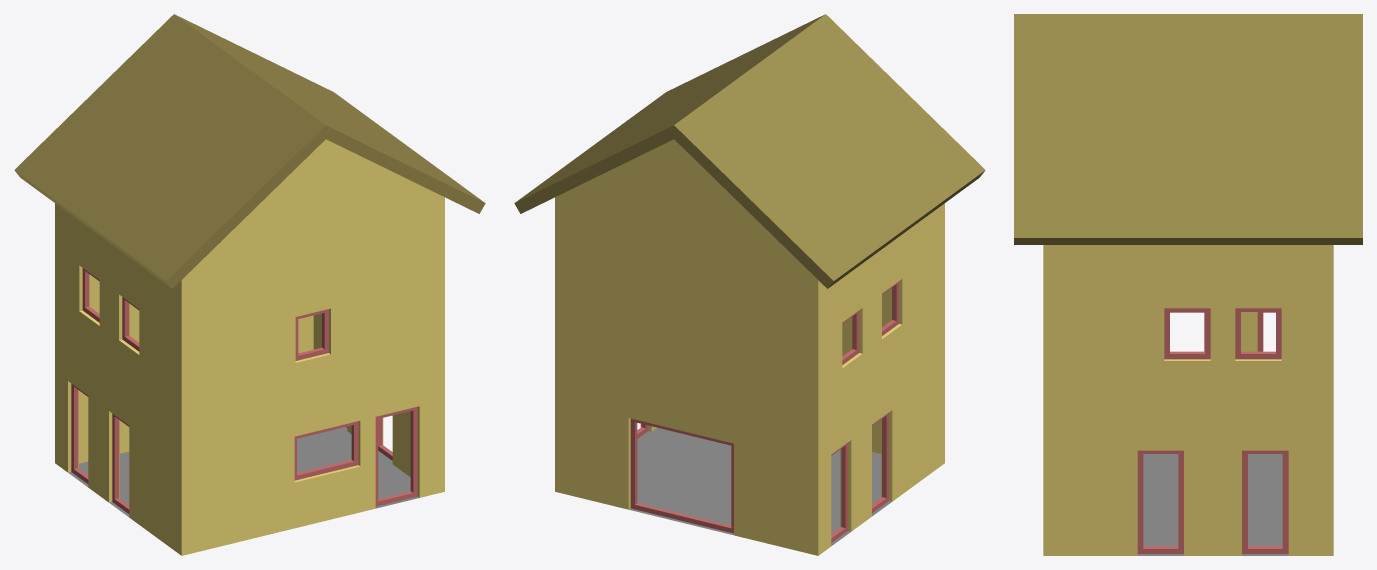
Rendered from result.glb.
3 views of the same model, side by side, from view 1: azimuth 30°, elevation 25°; view 2: azimuth 150°, elevation 25°; view 3: azimuth 270°, elevation 25° (orthographic). The views are drawn at different scales.
Visible parts, largest first — view 1: 58d5fe9b-66ff-4436-a9d9-81e09877fd12__undefined, 4d526b05-ba2b-46a8-8b9f-0b79afe91c6f__undefined (×2), 17e46a5e-29c2-4b0e-9123-e908c16def00__Plane_12, cd5a87b2-f80f-459e-8ec8-01d4aa87a5e8__Box, d47d1ab9-30a7-41aa-8699-48bdabd1dd70__Box_3, e3573923-9e46-4840-a38e-f33007ee65e7__Box_12, e75e17ad-46d1-4dae-bb52-7bf5ee2eff7f__Box_15, c084ab58-80e6-4a71-8fee-d90d848896a4__Box_6; view 2: 58d5fe9b-66ff-4436-a9d9-81e09877fd12__undefined, 4d526b05-ba2b-46a8-8b9f-0b79afe91c6f__undefined (×2), 17e46a5e-29c2-4b0e-9123-e908c16def00__Plane_12, ec49a122-95bb-4794-94d0-ca2c1f05acf7__Box_9, e75e17ad-46d1-4dae-bb52-7bf5ee2eff7f__Box_15, e3573923-9e46-4840-a38e-f33007ee65e7__Box_12; view 3: 4d526b05-ba2b-46a8-8b9f-0b79afe91c6f__undefined, 58d5fe9b-66ff-4436-a9d9-81e09877fd12__undefined, 17e46a5e-29c2-4b0e-9123-e908c16def00__Plane_12, 5ead5358-c3f2-485a-b7f8-f6f0ddb477be__Box_27, 3d83b8fb-e180-44c0-90ca-d98a20f719cc__Box_24, 51227ef4-a1f1-48ae-91c5-5794eac4196b__Box_30, d40143ff-5c57-4e94-9b11-857c47f641f6__Box_33.
Part boxes in pixels (x1,y1,x2,y2): 58d5fe9b-66ff-4436-a9d9-81e09877fd12__undefined: (55,139,444,555); 4d526b05-ba2b-46a8-8b9f-0b79afe91c6f__undefined (×2): (14,14,485,288); 17e46a5e-29c2-4b0e-9123-e908c16def00__Plane_12: (68,427,418,517); cd5a87b2-f80f-459e-8ec8-01d4aa87a5e8__Box: (375,406,417,506); d47d1ab9-30a7-41aa-8699-48bdabd1dd70__Box_3: (294,421,358,480); e3573923-9e46-4840-a38e-f33007ee65e7__Box_12: (112,413,129,513); e75e17ad-46d1-4dae-bb52-7bf5ee2eff7f__Box_15: (71,383,88,483); c084ab58-80e6-4a71-8fee-d90d848896a4__Box_6: (295,309,328,360); 58d5fe9b-66ff-4436-a9d9-81e09877fd12__undefined: (555,139,944,555); 4d526b05-ba2b-46a8-8b9f-0b79afe91c6f__undefined (×2): (514,14,985,288); 17e46a5e-29c2-4b0e-9123-e908c16def00__Plane_12: (629,427,891,545); ec49a122-95bb-4794-94d0-ca2c1f05acf7__Box_9: (630,418,733,533); e75e17ad-46d1-4dae-bb52-7bf5ee2eff7f__Box_15: (831,442,847,542); e3573923-9e46-4840-a38e-f33007ee65e7__Box_12: (872,412,888,512); 4d526b05-ba2b-46a8-8b9f-0b79afe91c6f__undefined: (1014,14,1362,244); 58d5fe9b-66ff-4436-a9d9-81e09877fd12__undefined: (1043,245,1333,555); 17e46a5e-29c2-4b0e-9123-e908c16def00__Plane_12: (1137,454,1288,555); 5ead5358-c3f2-485a-b7f8-f6f0ddb477be__Box_27: (1242,450,1288,553); 3d83b8fb-e180-44c0-90ca-d98a20f719cc__Box_24: (1137,450,1183,553); 51227ef4-a1f1-48ae-91c5-5794eac4196b__Box_30: (1164,308,1210,359); d40143ff-5c57-4e94-9b11-857c47f641f6__Box_33: (1235,308,1281,359).
Bounding box in the file's own units: 729 × 889 × 600.
